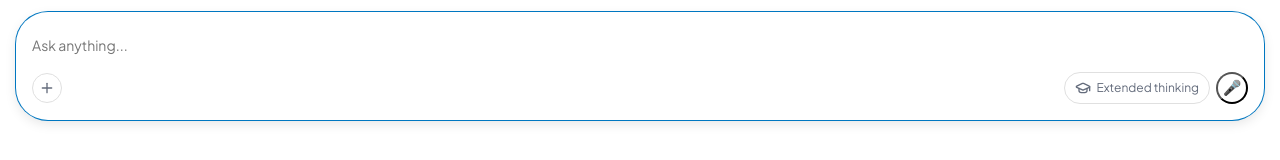
Test case: MessageInput Send button visibility › reveals Send once text is typed, and Enter still sends without needing it
Later steps or results of the test are not shown.
Type "hi" into the text box with placeholder "Ask anything...".
click(640, 46); type("hi")  # box [32, 28, 1248, 64]
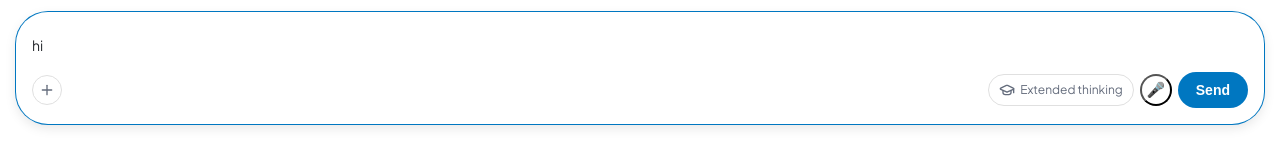
Expected: the button "Send" is shown, [1178, 72, 1248, 108]
